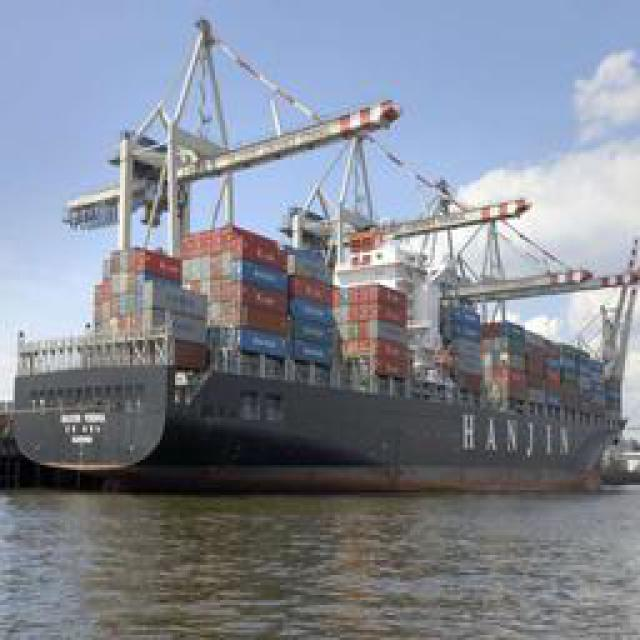Ship: (1, 16, 629, 499)
